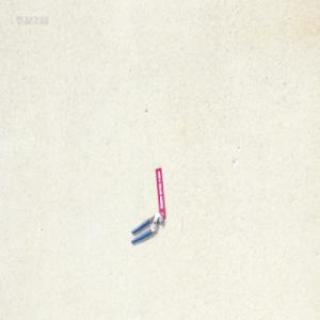LuggageTagtrack_idkeyframe: (154, 168, 165, 220)
Pliertrack_idkeyframe: (129, 212, 163, 244)
